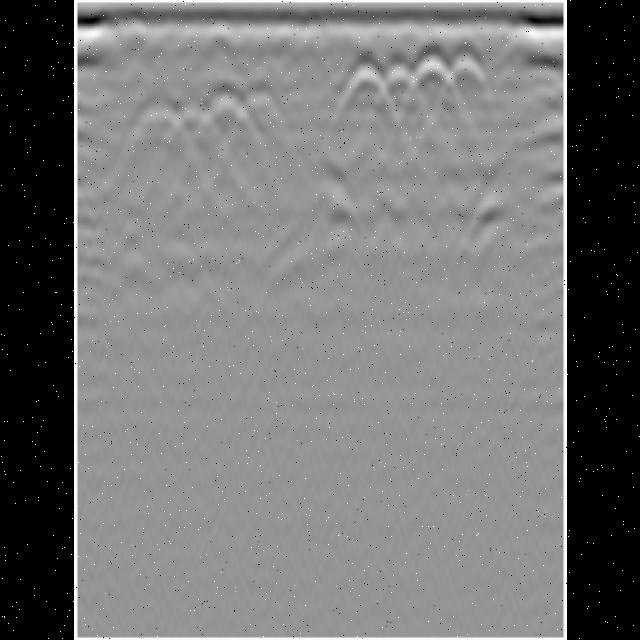hyperbola: (402, 54, 464, 108), (128, 100, 182, 158), (436, 52, 490, 106), (196, 88, 248, 142), (372, 56, 418, 110), (163, 97, 209, 147), (231, 94, 277, 144), (338, 58, 382, 110)
